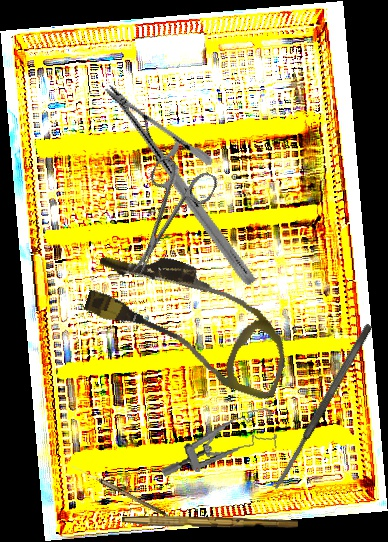Cannula: (74, 236, 306, 404)
Iris Scissors: (105, 149, 221, 289)
Needle Holder: (55, 83, 305, 287)
Scalpel Handle: (122, 516, 298, 529)
Spatula Surgical: (270, 322, 375, 492)
Speculum: (153, 406, 282, 479)
Surgical Spoon: (69, 463, 183, 525)
